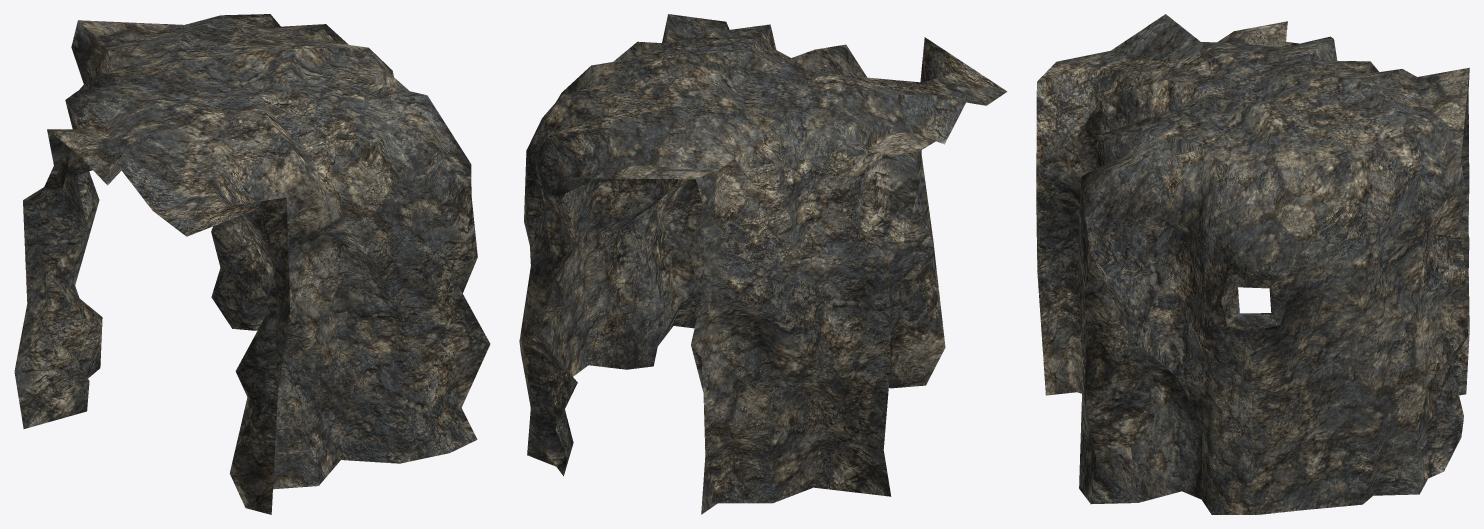
The model's file is Module14A_LOD2.fbx.
3 renders of one model, left to right at view 1: azimuth 30°, elevation 25°; view 2: azimuth 150°, elevation 25°; view 3: azimuth 270°, elevation 25°, orthographic. The views are drawn at different scales.
Parts seen in each view (by area): view 1: cave_el14A_1900_Group43684; view 2: cave_el14A_1900_Group43684; view 3: cave_el14A_1900_Group43684.
Part boxes in pixels (left/top/right/bottom): cave_el14A_1900_Group43684: left=14, top=14, right=490, bottom=514; cave_el14A_1900_Group43684: left=519, top=14, right=1007, bottom=514; cave_el14A_1900_Group43684: left=1036, top=14, right=1469, bottom=514.
Size of the model in its own units: 56.6 by 53.21 by 58.51.
